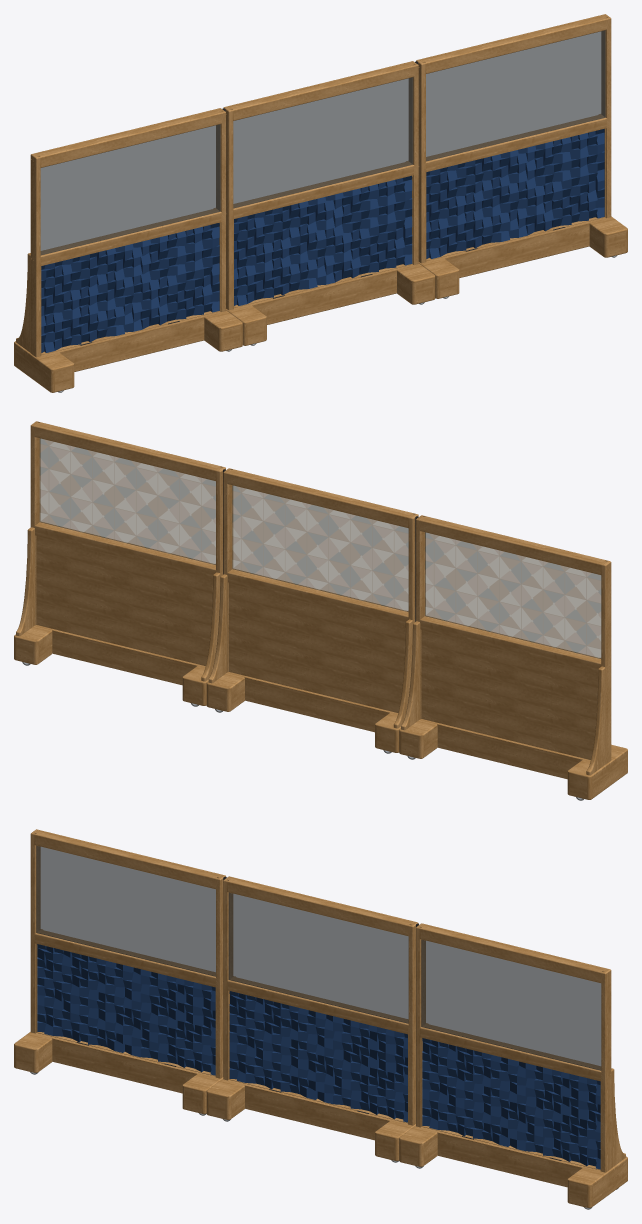
File: v10-linen-marquetry-honey-oak-three.glb
3 views of the same model, one above another, from view 1: azimuth 30°, elevation 25°; view 2: azimuth 150°, elevation 25°; view 3: azimuth 330°, elevation 25° (orthographic).
Visible parts, largest first — view 1: Left Wood, Left Linen Marquetry reverse, Linen Marquetry reverse, Right Linen Marquetry reverse, Right Navy Everwood relief, Left Navy Everwood relief, Navy Everwood relief, Right Wood, Wood; view 2: Left Wood, Right Wood, Wood, Left Linen Marquetry print, Right Linen Marquetry print, Linen Marquetry print; view 3: Right Wood, Linen Marquetry reverse, Right Linen Marquetry reverse, Left Linen Marquetry reverse, Left Navy Everwood relief, Right Navy Everwood relief, Navy Everwood relief, Left Wood, Wood.
Part boxes in pixels (left/top/right/bottom): Left Wood: left=14, top=108, right=242, bottom=392; Left Linen Marquetry reverse: left=40, top=124, right=220, bottom=255; Linen Marquetry reverse: left=233, top=77, right=413, bottom=208; Right Linen Marquetry reverse: left=426, top=30, right=605, bottom=161; Right Navy Everwood relief: left=426, top=128, right=604, bottom=258; Left Navy Everwood relief: left=41, top=223, right=219, bottom=352; Navy Everwood relief: left=234, top=175, right=412, bottom=305; Right Wood: left=416, top=14, right=627, bottom=298; Wood: left=223, top=61, right=435, bottom=345; Left Wood: left=399, top=515, right=627, bottom=799; Right Wood: left=14, top=421, right=225, bottom=705; Wood: left=206, top=468, right=418, bottom=752; Left Linen Marquetry print: left=425, top=532, right=601, bottom=658; Right Linen Marquetry print: left=39, top=438, right=215, bottom=564; Linen Marquetry print: left=232, top=485, right=408, bottom=611; Right Wood: left=399, top=923, right=627, bottom=1207; Linen Marquetry reverse: left=228, top=892, right=408, bottom=1023; Right Linen Marquetry reverse: left=421, top=940, right=601, bottom=1070; Left Linen Marquetry reverse: left=36, top=846, right=215, bottom=976; Left Navy Everwood relief: left=37, top=944, right=215, bottom=1075; Right Navy Everwood relief: left=422, top=1038, right=600, bottom=1169; Navy Everwood relief: left=229, top=991, right=407, bottom=1122; Left Wood: left=14, top=829, right=225, bottom=1114; Wood: left=206, top=876, right=418, bottom=1161.
Bounding box in the file's own units: 5.03 × 1.91 × 0.5842.
Materials: 10 (2 with a texture image).
